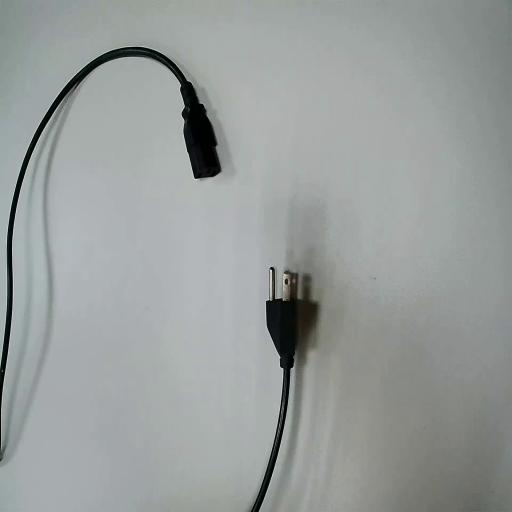wire: (0, 48, 220, 396), (251, 283, 316, 511)
